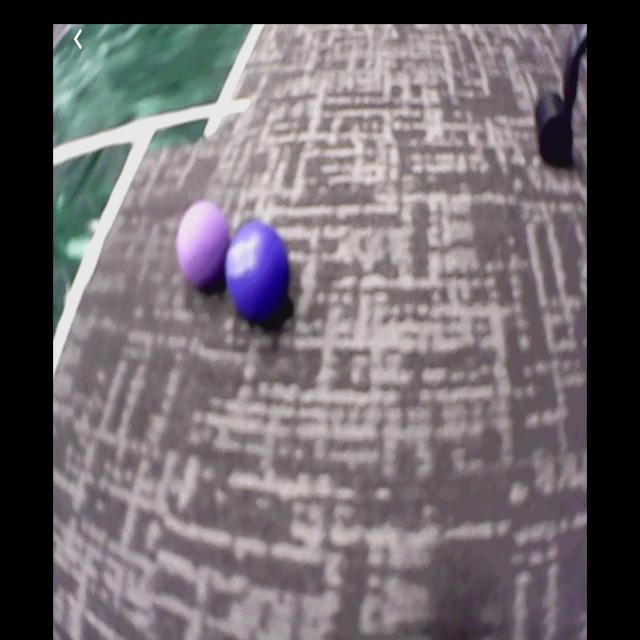ball: (226, 224, 293, 323), (175, 203, 232, 291)
